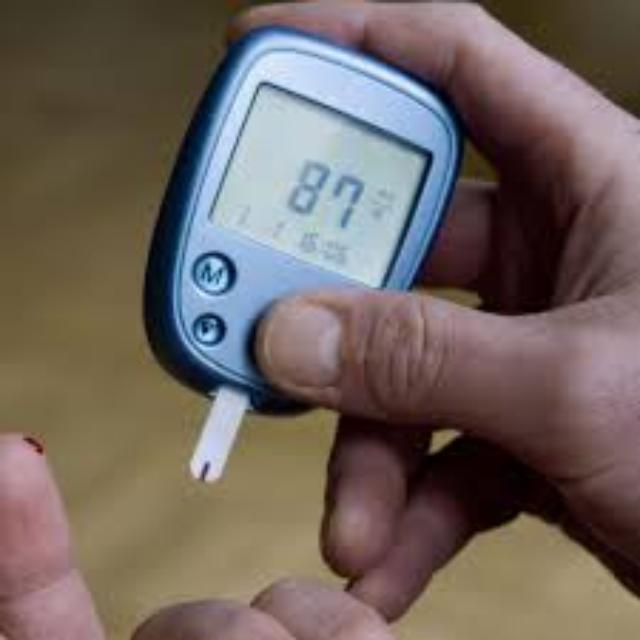Glucose-Meter: (145, 28, 461, 482)
